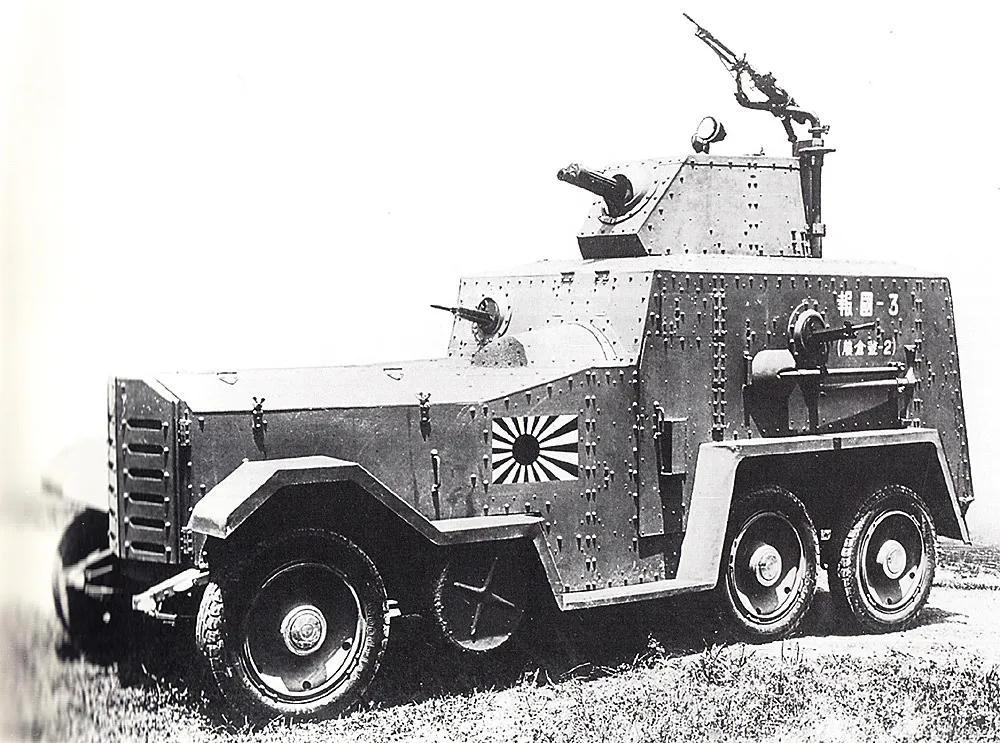MIL_IFV: (46, 34, 977, 725)
